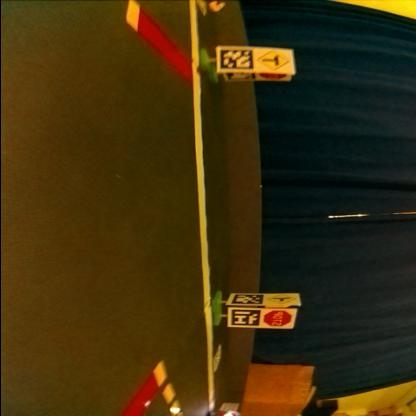Intersection sign: (257, 52, 290, 72), (266, 294, 297, 306)
QR code: (218, 50, 254, 72), (230, 310, 260, 328), (230, 294, 262, 306), (228, 74, 256, 82)
Stop sign: (264, 310, 292, 328), (261, 74, 285, 80)
